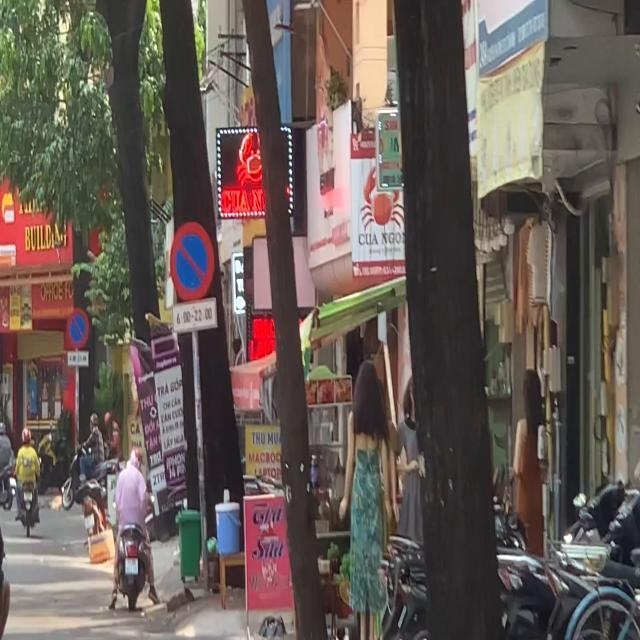bien_cam: (170, 222, 215, 302), (67, 307, 89, 349)
